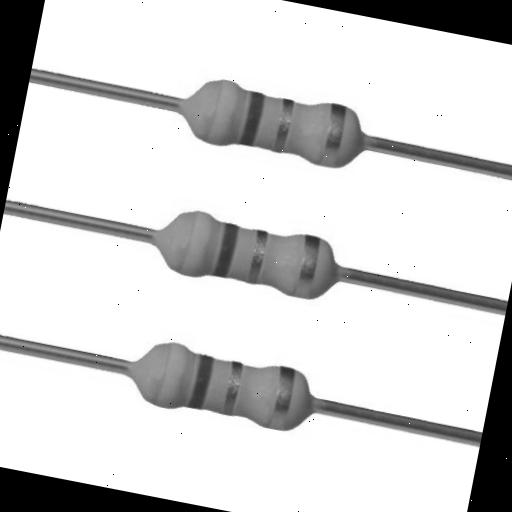RESISTOR: (82, 30, 417, 232), (136, 168, 410, 366), (61, 282, 330, 466)
